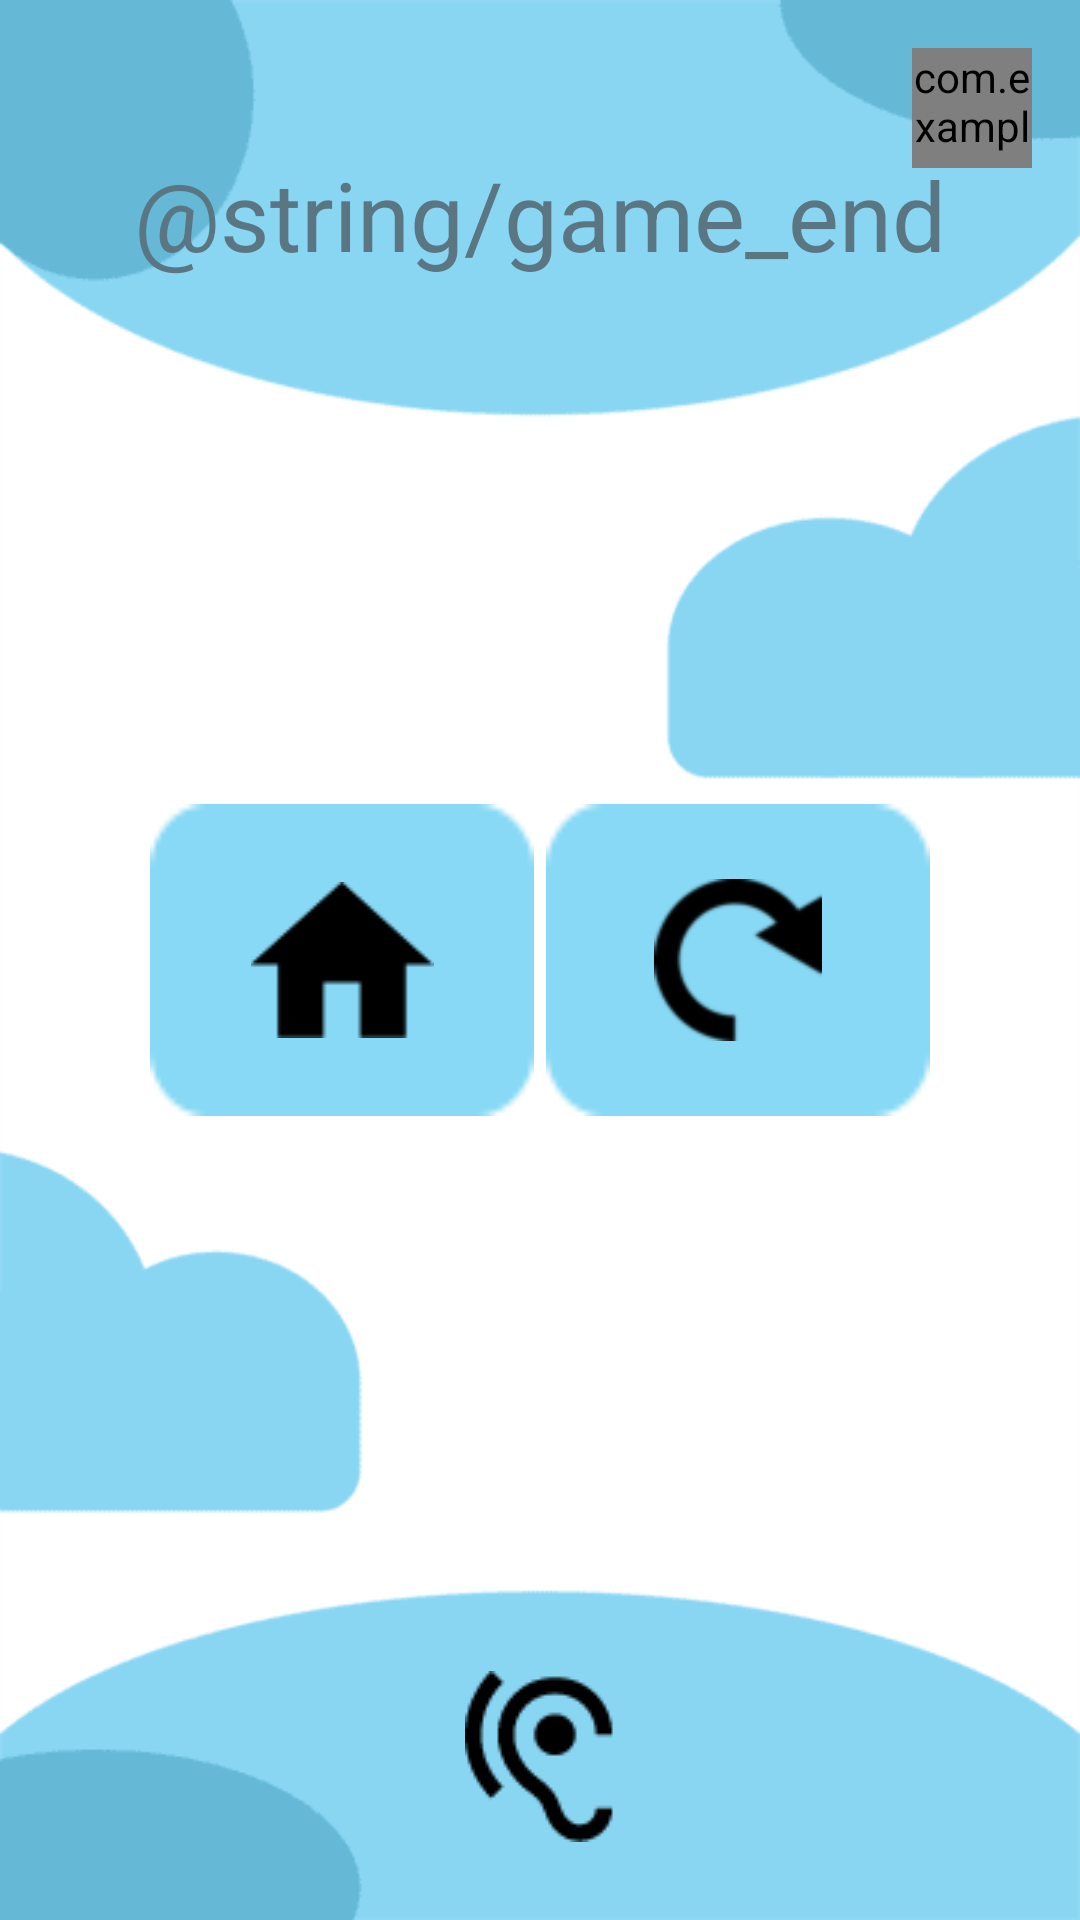

Where to tap for icons on this 1080×1920 app screen, as (x=x, y=y):
home: (x=342, y=960)
pictogram oortje: (x=539, y=1756)
redo: (x=738, y=960)
